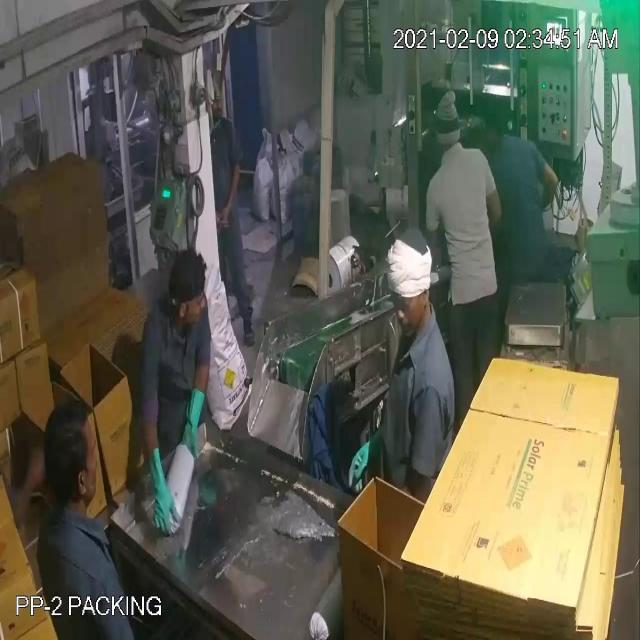Gloves: (46, 76, 374, 492)
